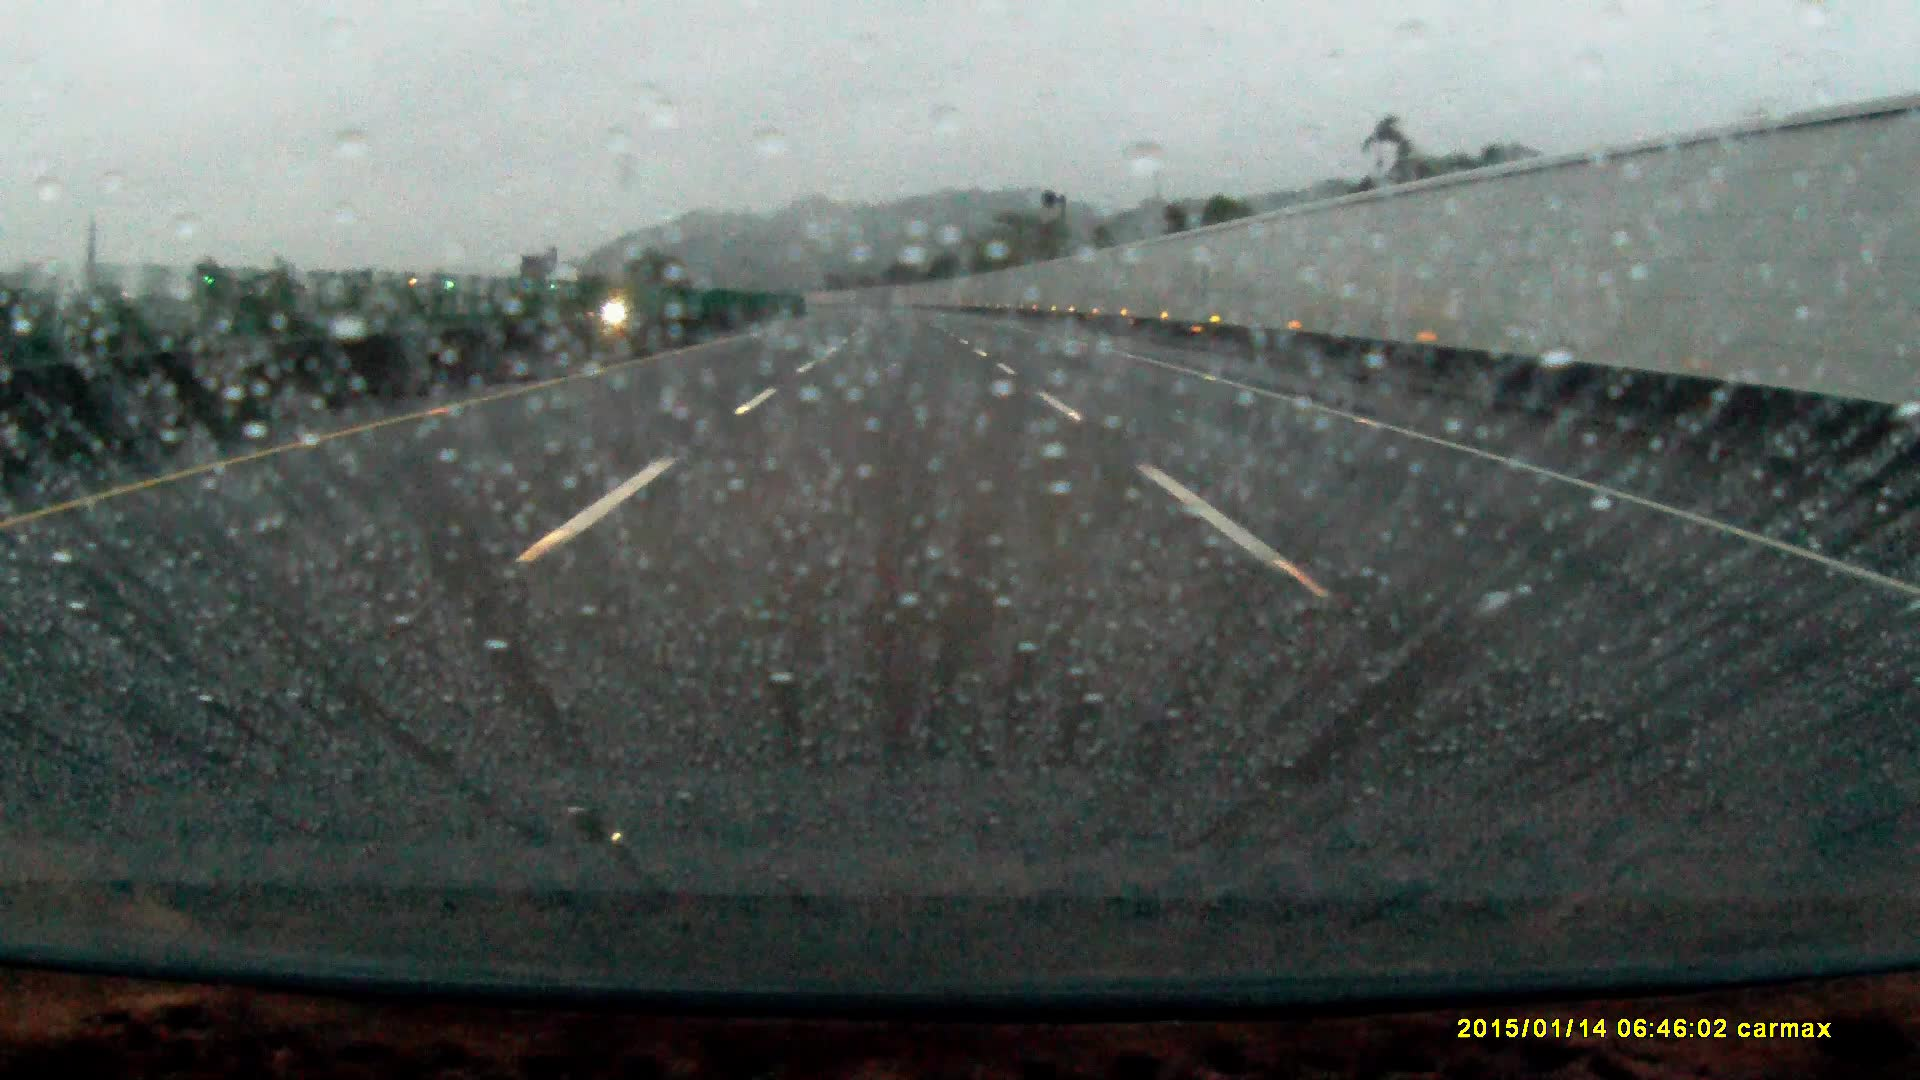vehicle: (585, 290, 637, 316)
